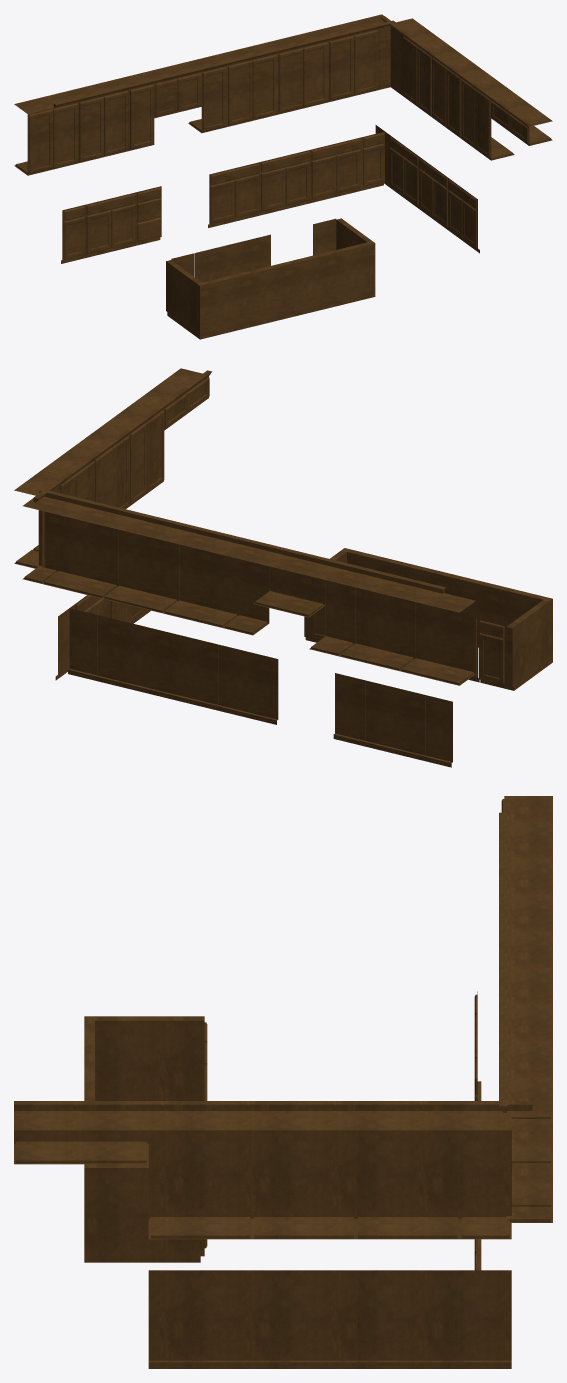
The model's file is 1989_kitchen_cabinets_truffle.gltf.
The picture shows the model from 3 angles, top to bottom: view 1: azimuth 30°, elevation 25°; view 2: azimuth 150°, elevation 25°; view 3: azimuth 270°, elevation 25°; orthographic projection. The views are drawn at different scales.
Visible parts, largest first — view 1: Cabinet_truffle.001; view 2: Cabinet_truffle.001; view 3: Cabinet_truffle.001.
Boxes of the visible parts, x1,y1,x2,y2 form: Cabinet_truffle.001: (14,14,552,339); Cabinet_truffle.001: (14,368,552,767); Cabinet_truffle.001: (14,796,552,1368).
Bounding box in the file's own units: 7.63 × 2.93 × 5.2.
Materials: 1 (1 with a texture image).
